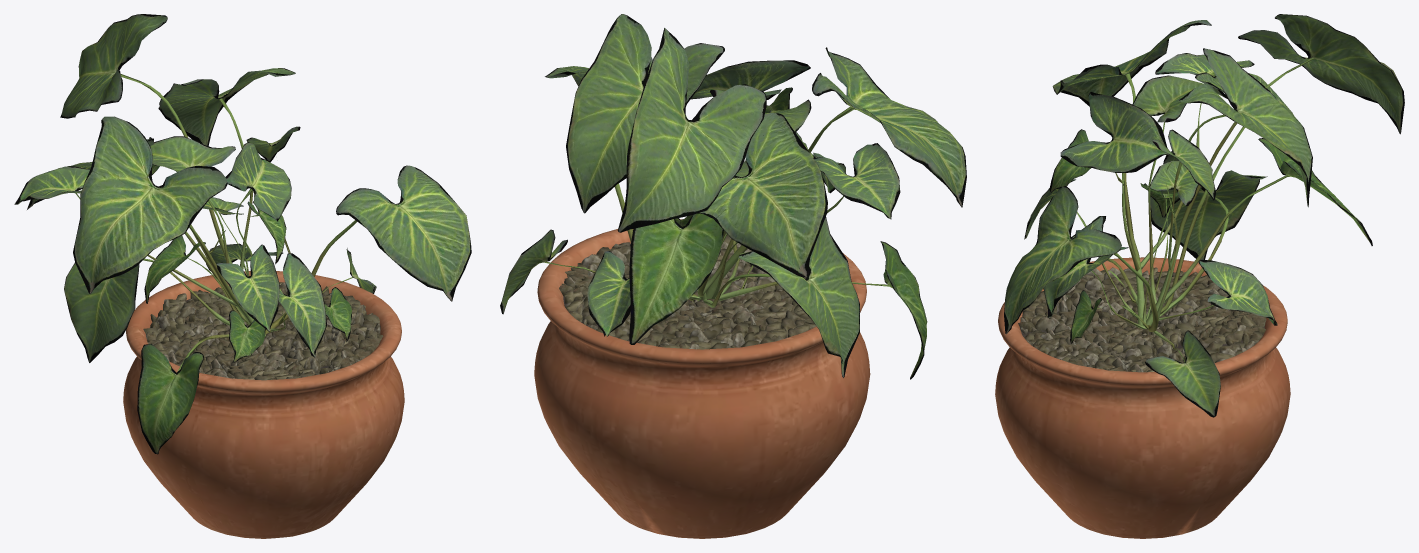
Rendered from potted-plant-02.glb.
The picture shows the model from 3 angles, left to right: view 1: azimuth 30°, elevation 25°; view 2: azimuth 150°, elevation 25°; view 3: azimuth 270°, elevation 25°; orthographic projection. The views are drawn at different scales.
Parts seen in each view (by area): view 1: potted_plant_02_leaves, potted_plant_02_pot; view 2: potted_plant_02_leaves, potted_plant_02_pot; view 3: potted_plant_02_pot, potted_plant_02_leaves.
Part boxes in pixels (left/top/right/bottom): potted_plant_02_leaves: left=14, top=14, right=471, bottom=454; potted_plant_02_pot: left=123, top=271, right=404, bottom=538; potted_plant_02_leaves: left=500, top=14, right=966, bottom=379; potted_plant_02_pot: left=534, top=219, right=870, bottom=538; potted_plant_02_pot: left=995, top=257, right=1290, bottom=538; potted_plant_02_leaves: left=1004, top=14, right=1404, bottom=417.
Bounding box in the file's own units: 0.7012 × 0.8412 × 0.6574.
Materials: 2 (2 with a texture image).
